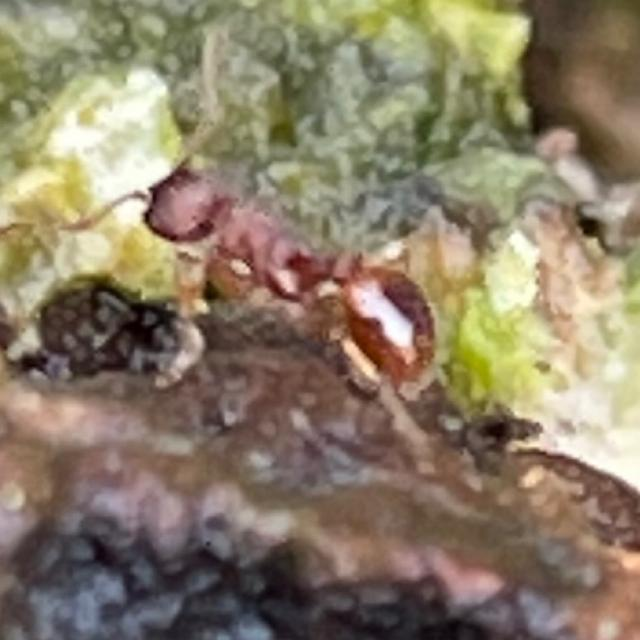Myrmica: (94, 118, 476, 404)
